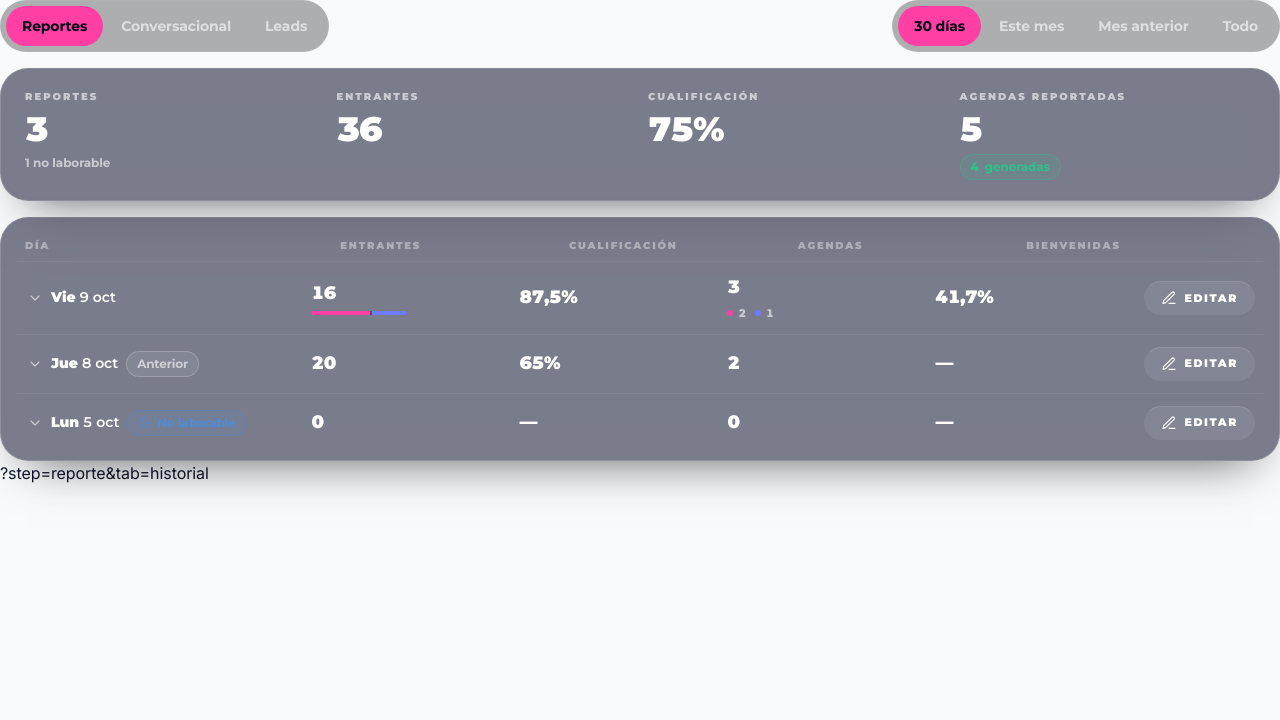
Test: Historial › abrir un día muestra su Resumen; el de un v1, sin canales
This screenshot has width=1280, height=720.
Click the button with aria-label "9 oct: ver el resumen" at (98, 297), box [25,283,299,312]
(page scrolled)
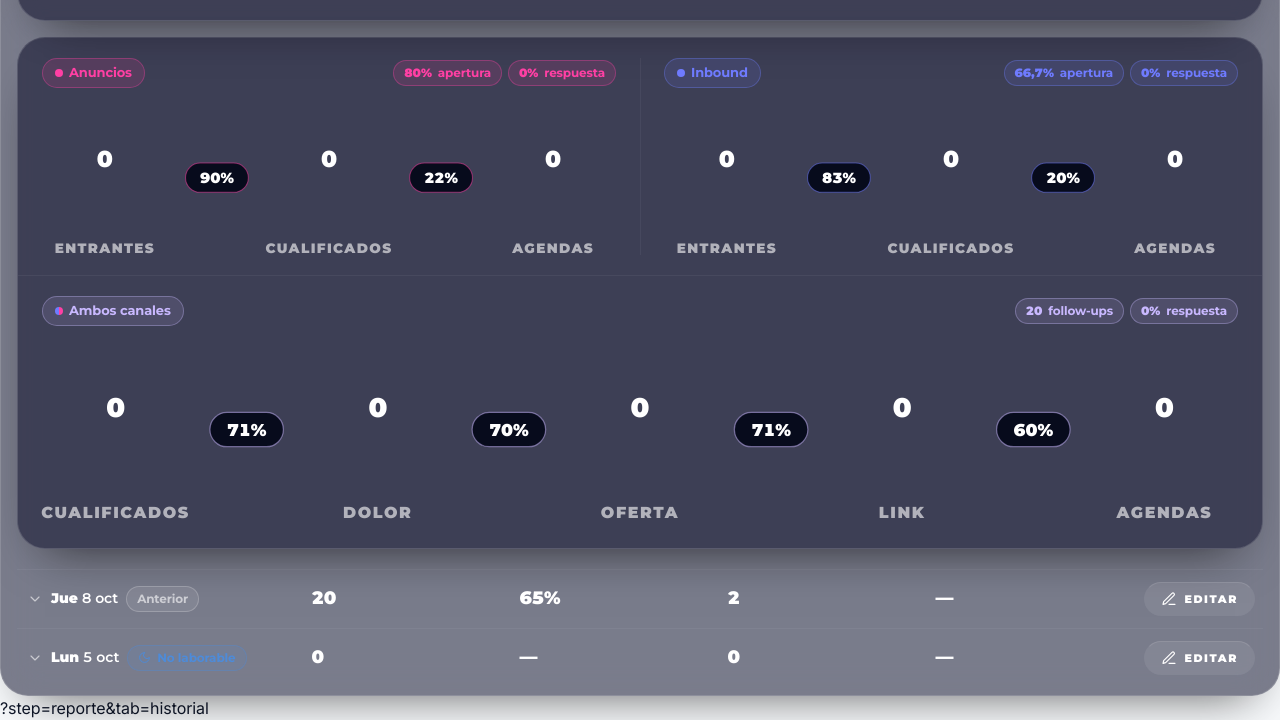
expect the element named "Tu día completo" is shown: met
Click the button with aria-label "8 oct: ver el resumen" at (162, 599), box [25,582,299,616]
(page scrolled)
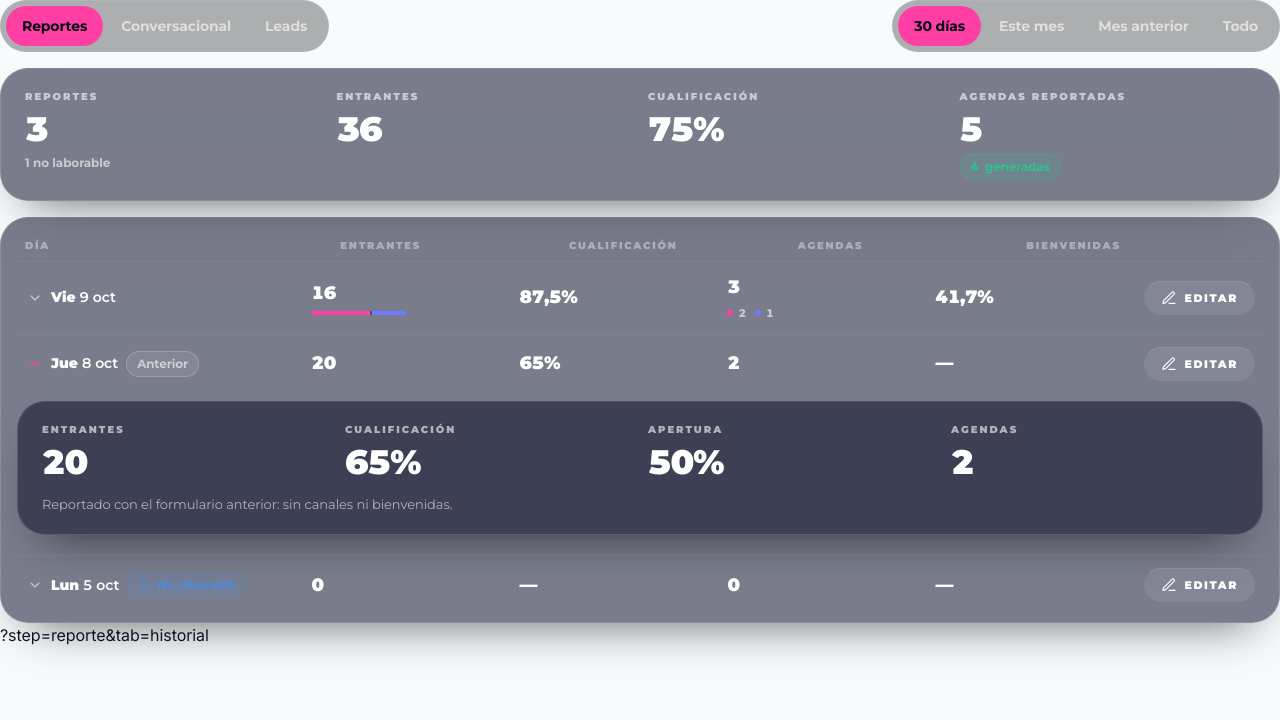
expect the text "formulario anterior: sin canales" is shown: met, box [42,496,452,512]
